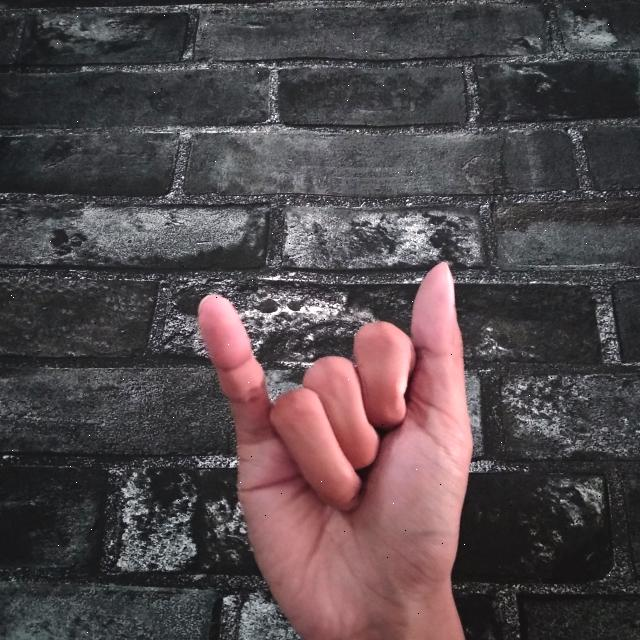Y: (182, 251, 488, 640)
